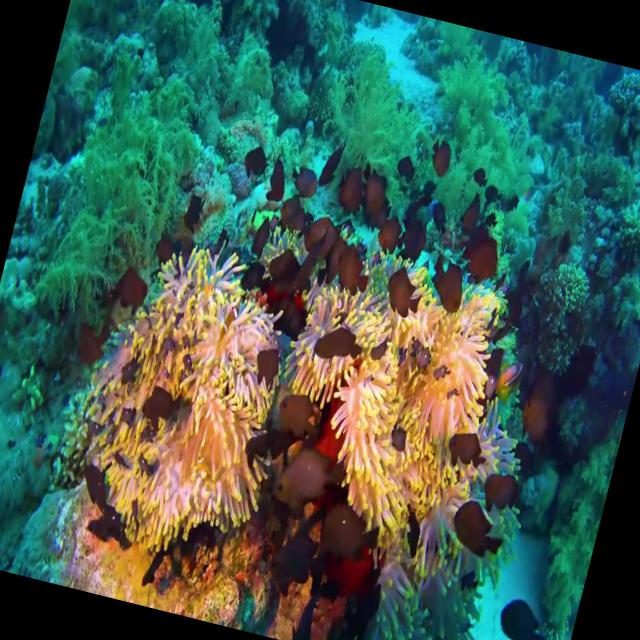fish: (268, 444, 344, 518), (445, 497, 510, 566), (326, 240, 376, 304), (379, 264, 428, 325)
